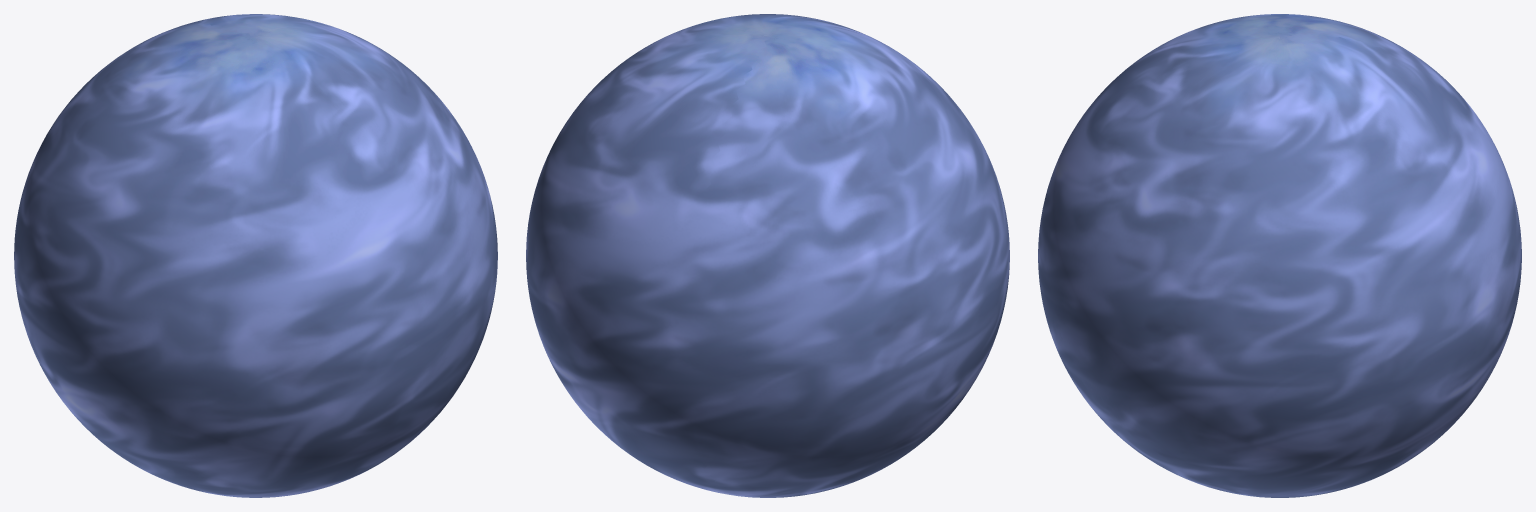
File: QuantumMoon.glb
The picture shows the model from 3 angles, left to right: view 1: azimuth 30°, elevation 25°; view 2: azimuth 150°, elevation 25°; view 3: azimuth 270°, elevation 25°; orthographic projection.
Parts seen in each view (by area): view 1: QuantumMoon; view 2: QuantumMoon; view 3: QuantumMoon.
Part boxes in pixels (x1,y1,x2,y2): QuantumMoon: (14,14,497,497); QuantumMoon: (526,14,1009,497); QuantumMoon: (1038,14,1521,497).
Size of the model in its own units: 2 by 2 by 2.
1 material, 1 textured.
